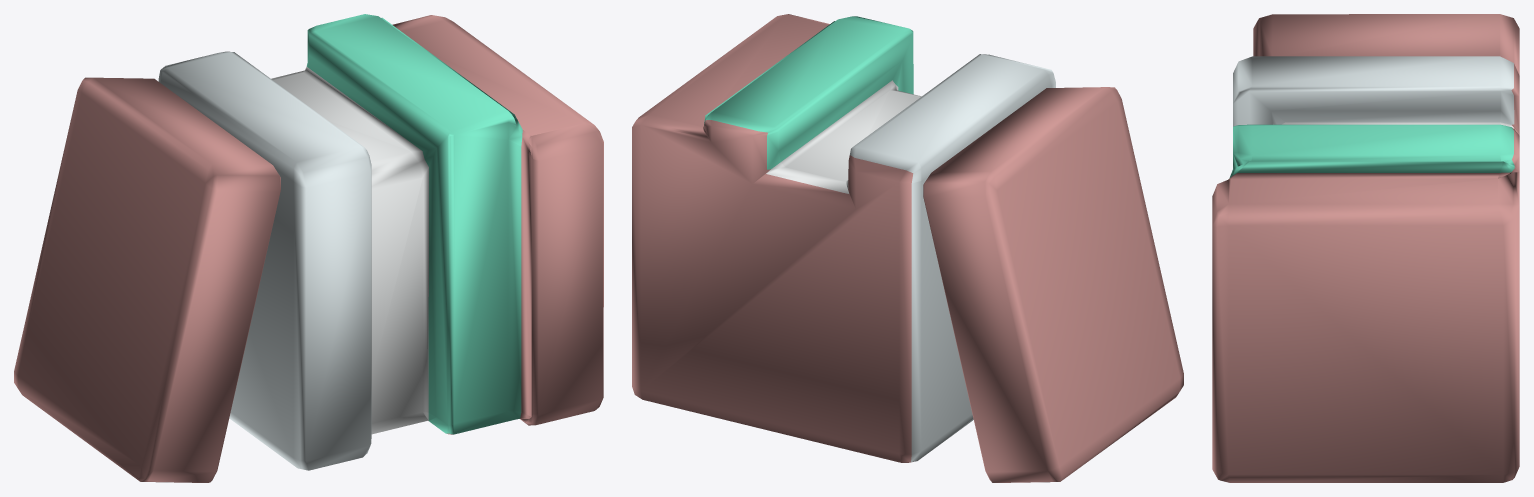
Rendered from books.glb.
3 views of the same model, side by side, from view 1: azimuth 30°, elevation 25°; view 2: azimuth 150°, elevation 25°; view 3: azimuth 270°, elevation 25° (orthographic). The views are drawn at different scales.
Parts seen in each view (by area): view 1: booksStack_books(Clone); view 2: booksStack_books(Clone); view 3: booksStack_books(Clone).
Boxes of the visible parts, left/top/right/bottom form: booksStack_books(Clone): left=14, top=14, right=603, bottom=482; booksStack_books(Clone): left=632, top=14, right=1183, bottom=482; booksStack_books(Clone): left=1212, top=14, right=1519, bottom=482.
Bounding box in the file's own units: 0.4187 × 0.2897 × 0.2646.
